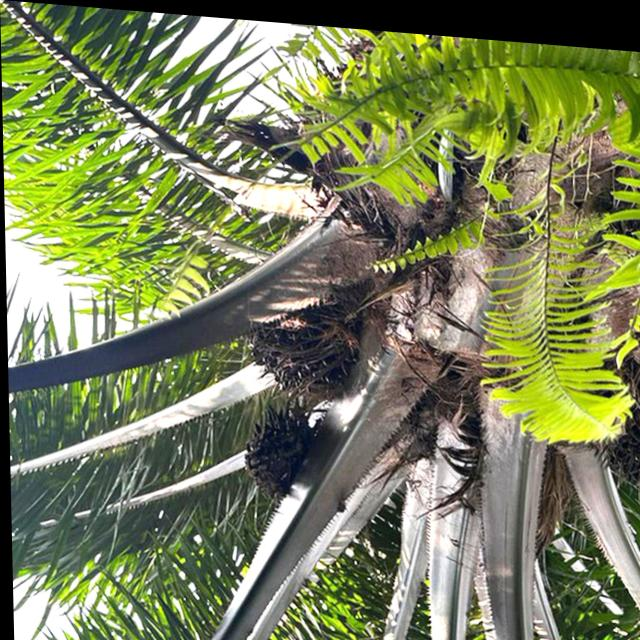ripe: (239, 288, 375, 415)
